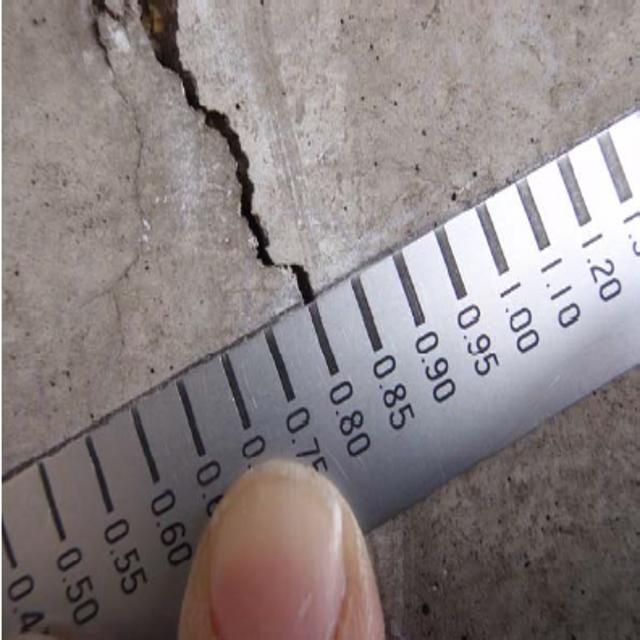crack: (81, 7, 323, 310)
